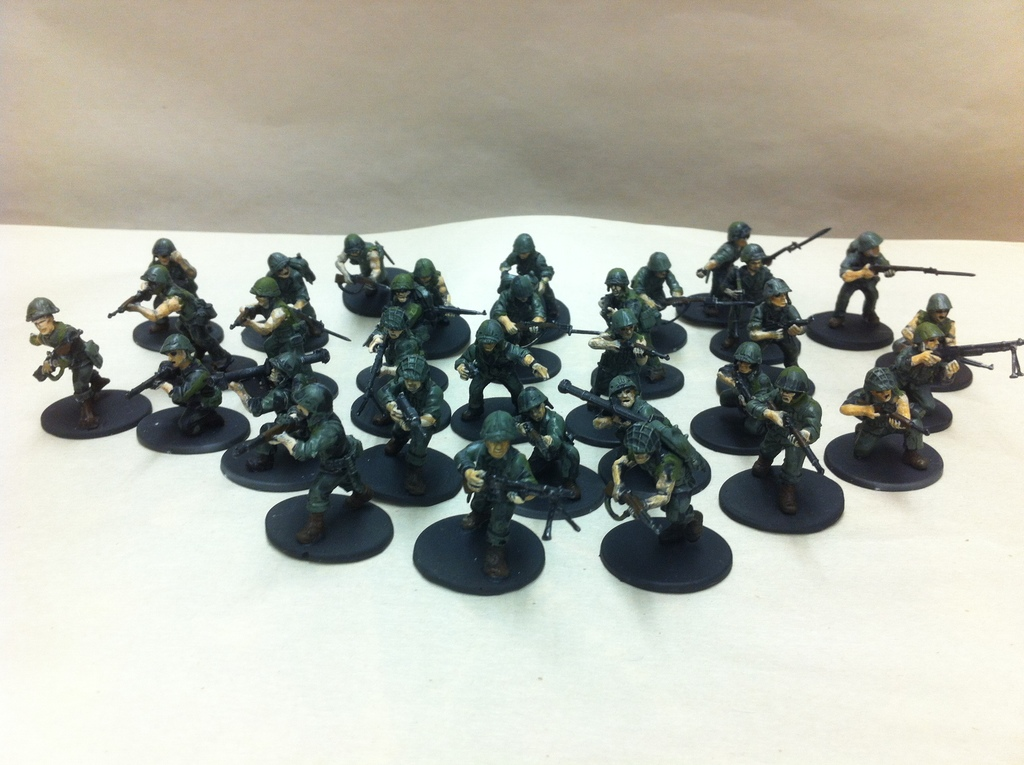Person: (25, 217, 964, 585)
